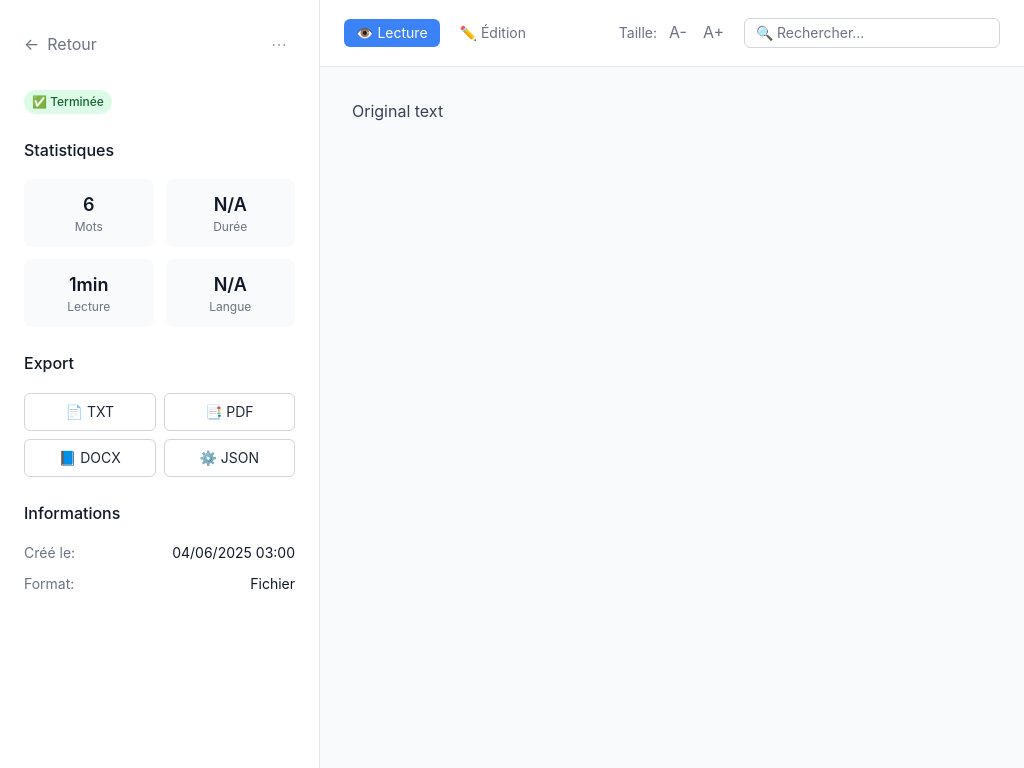
TranscriptionDetail.vue › enables edit mode and tracks changes
Click the button with test id "edit-mode-btn" at (493, 33), box [448,19,538,47]
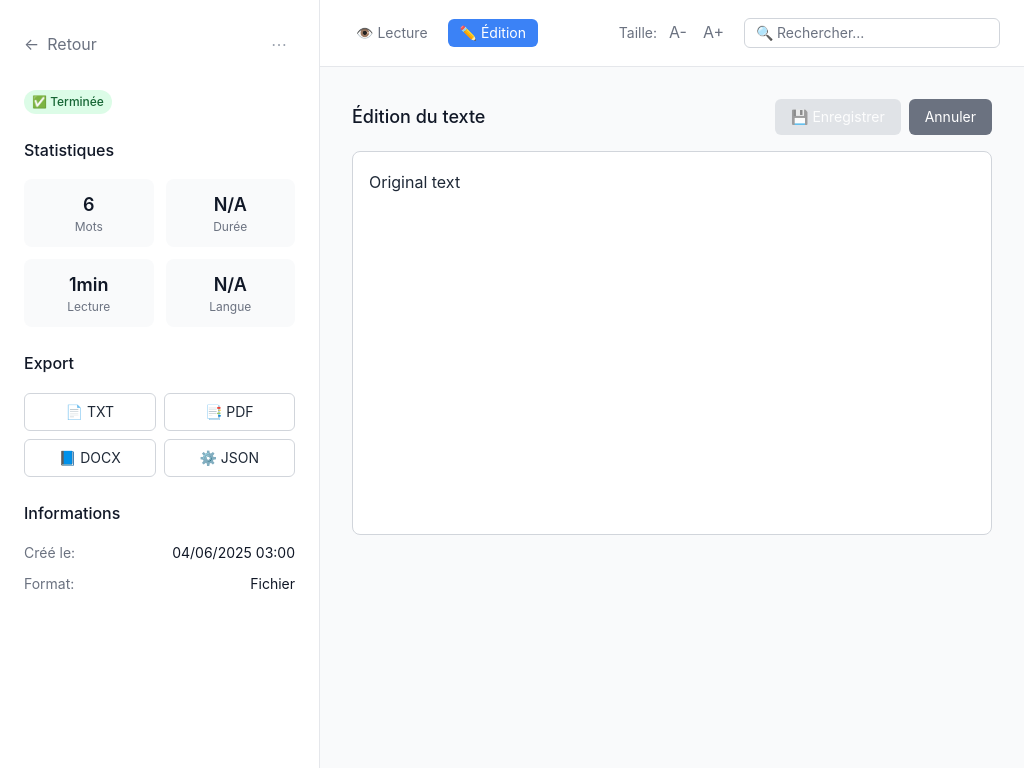
Replace the text in the text box with "Modified text" at (672, 343), box [352,151,992,535]
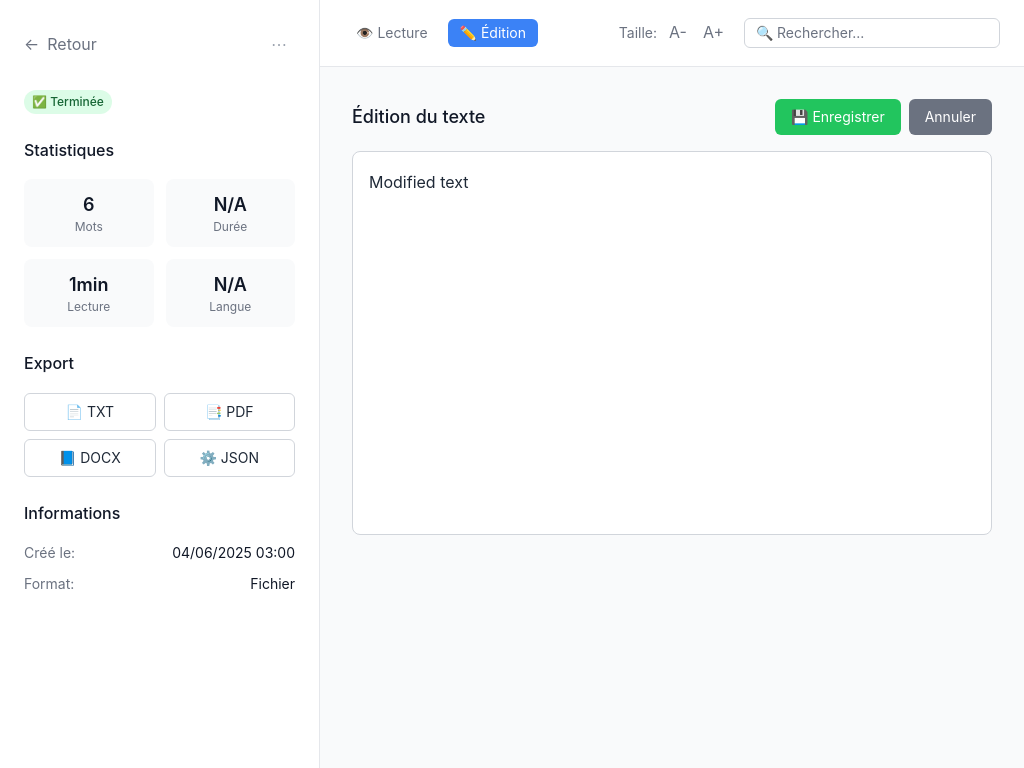
Result: the button with test id "save-changes" is enabled at [775,99,901,135]
